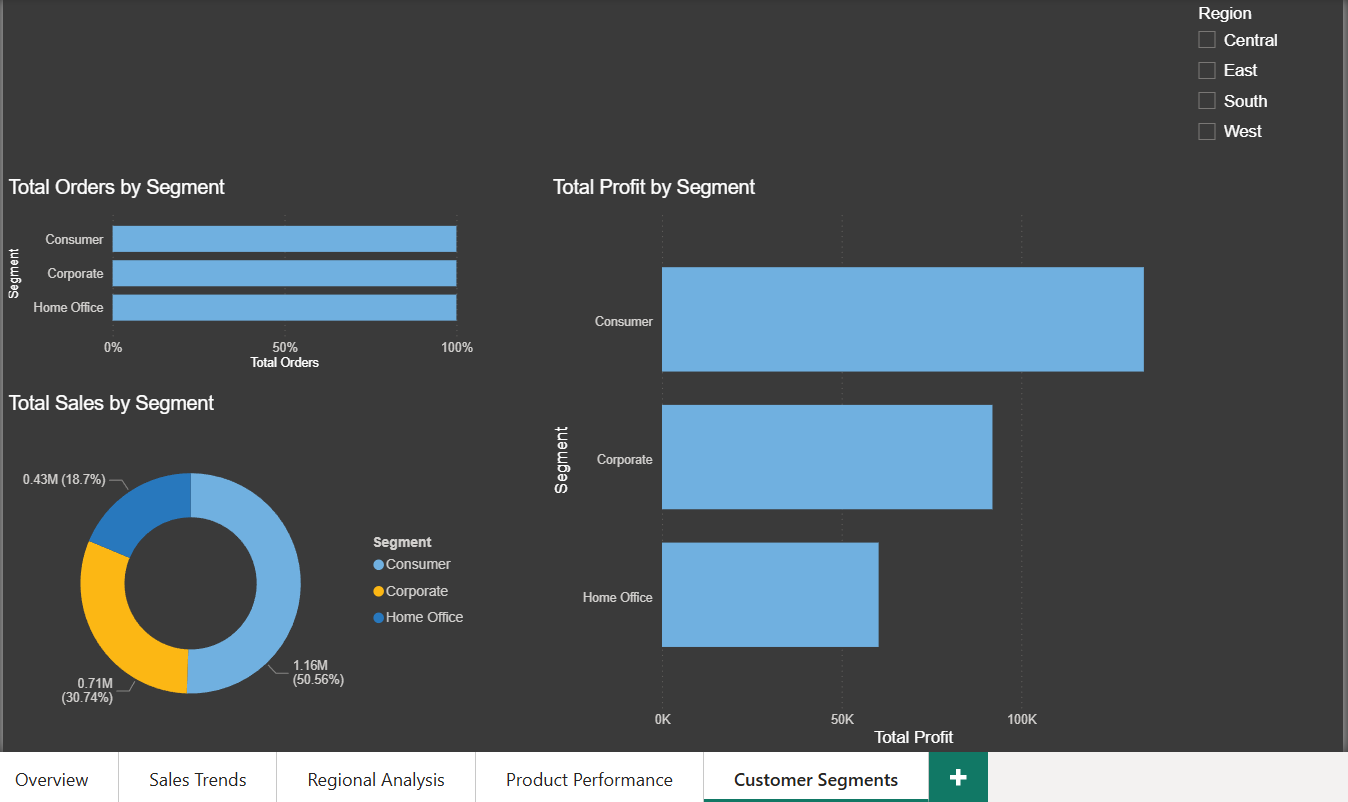

The dashboard page shown, as its layout file describes it:
{"tool":"powerbi","page":{"name":"Customer Segments","canvas":[1280,720],"ordinal":4},"visuals":[{"type":"donutChart","fields":{"Category":["Sample - Superstore.Segment"],"Y":["Sample - Superstore.Total Sales"]},"box":[0,376.6,453.6,343.2],"z":0},{"type":"clusteredBarChart","fields":{"Category":["Sample - Superstore.Segment"],"Y":["Sample - Superstore.Total Profit"]},"box":[520.6,170.7,609.3,549.1],"z":1},{"type":"hundredPercentStackedBarChart","fields":{"Category":["Sample - Superstore.Segment"],"Y":["Sample - Superstore.Total Orders"]},"box":[0,170.7,453.6,189.2],"z":2},{"type":"slicer","fields":{"Values":["Sample - Superstore.Region"]},"box":[1129.3,0,150.7,197.5],"z":3}]}

Visuals, with their boxes on the page's 1280x720 design canvas (x1, y1, x2, y2). These are canvas units, not pixel positions in the 1348x802 screenshot, which may show the page scaled, cropped or inside an application window:
donutChart - Sample - Superstore.Segment x Sample - Superstore.Total Sales: box(0, 377, 454, 720)
clusteredBarChart - Sample - Superstore.Segment x Sample - Superstore.Total Profit: box(521, 171, 1130, 720)
hundredPercentStackedBarChart - Sample - Superstore.Segment x Sample - Superstore.Total Orders: box(0, 171, 454, 360)
slicer - Sample - Superstore.Region: box(1129, 0, 1280, 198)
